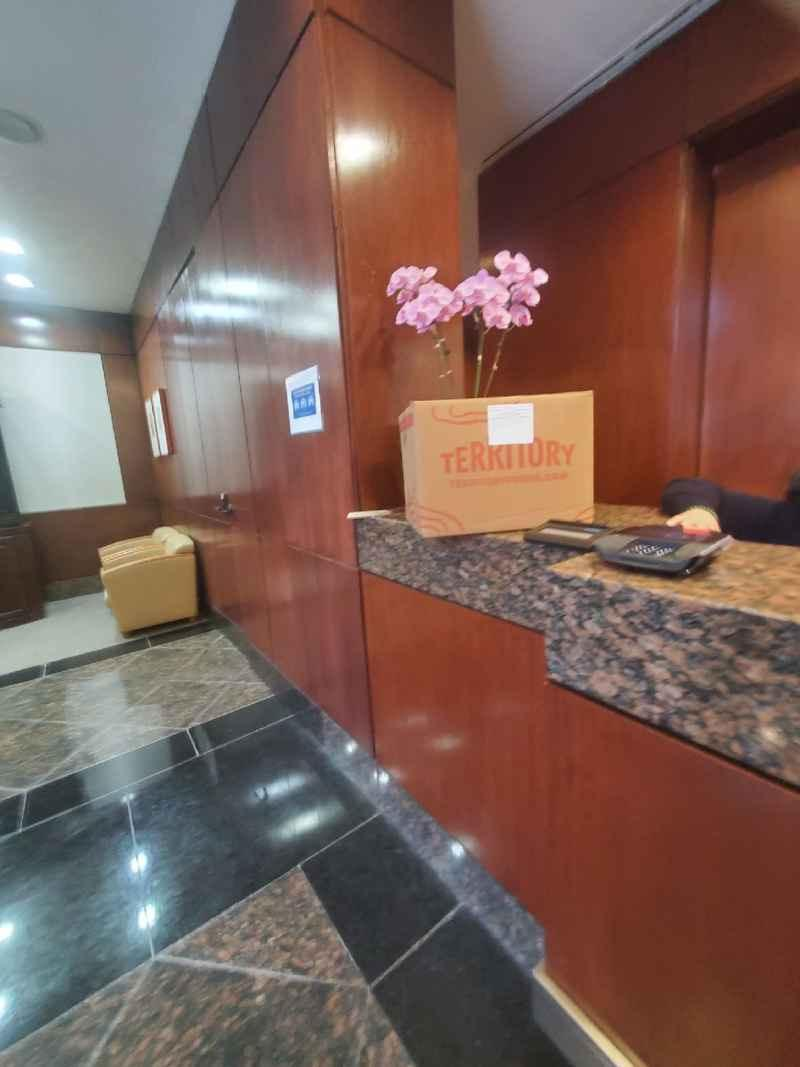package: (388, 393, 603, 532)
